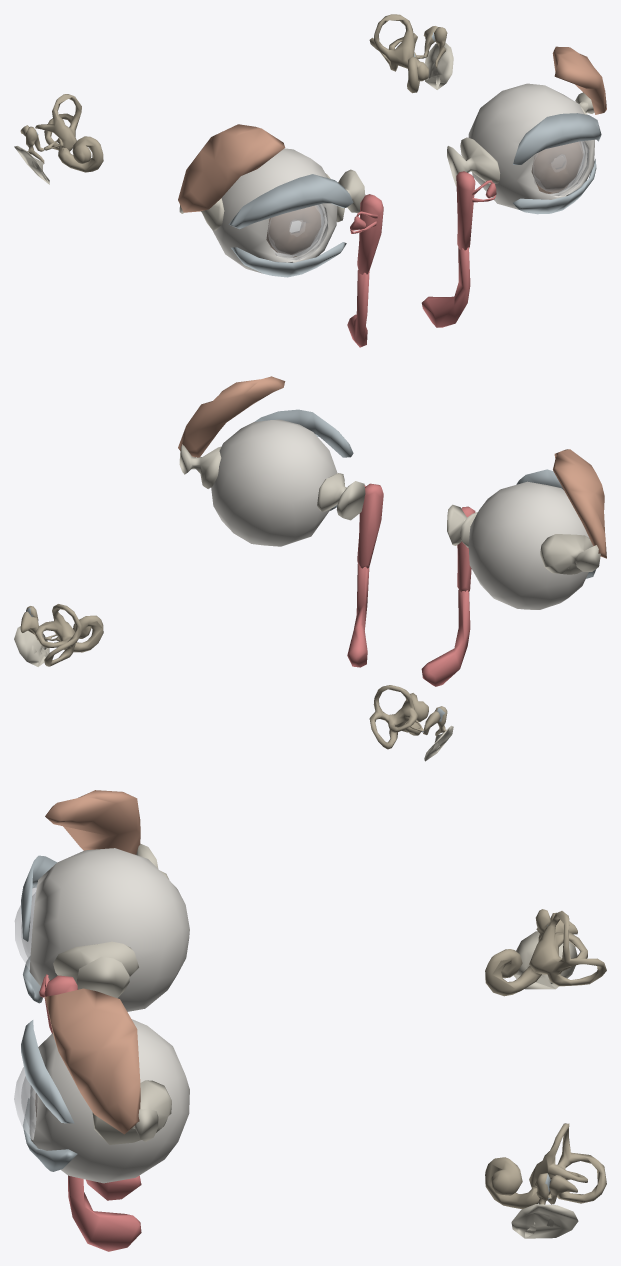
The model's file is adult_male.sensory.LOD3.glb.
3 renders of one model, top to bottom at view 1: azimuth 30°, elevation 25°; view 2: azimuth 150°, elevation 25°; view 3: azimuth 270°, elevation 25°, orthographic. The views are drawn at different scales.
Parts seen in each view (by area): view 1: ADULT.MALE.SENSORY.SCLERA.L, ADULT.MALE.SENSORY.SCLERA.R, ADULT.MALE.SENSORY.LACRIMAL_GLAND.R, ADULT.MALE.SENSORY.SUPERIOR_TARSUS.R, ADULT.MALE.SENSORY.CORNEA.R, ADULT.MALE.SENSORY.SUPERIOR_TARSUS.L, ADULT.MALE.SENSORY.CORNEA.L, ADULT.MALE.SENSORY.ANTERIOR_CHAMBER_OF_EYEBALL.R, ADULT.MALE.SENSORY.LACRIMAL_GLAND.L, ADULT.MALE.SENSORY.IRIS.R, ADULT.MALE.SENSORY.SUSPENSORY_LIGAMENT_OF_EYEBALL.L, ADULT.MALE.SENSORY.ANTERIOR_CHAMBER_OF_EYEBALL.L (+13 smaller); view 2: ADULT.MALE.SENSORY.SCLERA.L, ADULT.MALE.SENSORY.SCLERA.R, ADULT.MALE.SENSORY.LACRIMAL_GLAND.L, ADULT.MALE.SENSORY.LACRIMAL_GLAND.R, ADULT.MALE.SENSORY.SUSPENSORY_LIGAMENT_OF_EYEBALL.R, ADULT.MALE.SENSORY.SUSPENSORY_LIGAMENT_OF_EYEBALL.L, ADULT.MALE.SENSORY.NASOLACRIMAL_DUCT.R, ADULT.MALE.SENSORY.LACRIMAL_SAC.L, ADULT.MALE.SENSORY.VESTIBULE.L, ADULT.MALE.SENSORY.SUPERIOR_TARSUS.L, ADULT.MALE.SENSORY.VESTIBULE.R, ADULT.MALE.SENSORY.NASOLACRIMAL_DUCT.L (+3 smaller); view 3: ADULT.MALE.SENSORY.SCLERA.R, ADULT.MALE.SENSORY.SCLERA.L, ADULT.MALE.SENSORY.LACRIMAL_GLAND.L, ADULT.MALE.SENSORY.LACRIMAL_GLAND.R, ADULT.MALE.SENSORY.SUSPENSORY_LIGAMENT_OF_EYEBALL.R, ADULT.MALE.SENSORY.NASOLACRIMAL_DUCT.L, ADULT.MALE.SENSORY.VESTIBULE.R, ADULT.MALE.SENSORY.SUSPENSORY_LIGAMENT_OF_EYEBALL.L, ADULT.MALE.SENSORY.VESTIBULE.L, ADULT.MALE.SENSORY.SUPERIOR_TARSUS.L, ADULT.MALE.SENSORY.TYMPANIC_MEMBRANE.L, ADULT.MALE.SENSORY.COCHLEA.L (+7 smaller).
Boxes of the visible parts, x1,y1,x2,y2 form: ADULT.MALE.SENSORY.SCLERA.L: (468, 83, 594, 209); ADULT.MALE.SENSORY.SCLERA.R: (212, 148, 337, 273); ADULT.MALE.SENSORY.LACRIMAL_GLAND.R: (178, 124, 285, 212); ADULT.MALE.SENSORY.SUPERIOR_TARSUS.R: (229, 174, 353, 229); ADULT.MALE.SENSORY.CORNEA.R: (266, 204, 328, 259); ADULT.MALE.SENSORY.SUPERIOR_TARSUS.L: (513, 113, 601, 164); ADULT.MALE.SENSORY.CORNEA.L: (532, 141, 588, 195); ADULT.MALE.SENSORY.ANTERIOR_CHAMBER_OF_EYEBALL.R: (268, 205, 323, 255); ADULT.MALE.SENSORY.LACRIMAL_GLAND.L: (552, 46, 606, 114); ADULT.MALE.SENSORY.IRIS.R: (266, 205, 320, 254); ADULT.MALE.SENSORY.SUSPENSORY_LIGAMENT_OF_EYEBALL.L: (447, 92, 594, 186); ADULT.MALE.SENSORY.ANTERIOR_CHAMBER_OF_EYEBALL.L: (533, 141, 584, 192); ADULT.MALE.SENSORY.SCLERA.L: (211, 419, 337, 546); ADULT.MALE.SENSORY.SCLERA.R: (468, 481, 592, 609); ADULT.MALE.SENSORY.LACRIMAL_GLAND.L: (178, 376, 285, 457); ADULT.MALE.SENSORY.LACRIMAL_GLAND.R: (553, 449, 606, 558); ADULT.MALE.SENSORY.SUSPENSORY_LIGAMENT_OF_EYEBALL.R: (447, 504, 600, 574); ADULT.MALE.SENSORY.SUSPENSORY_LIGAMENT_OF_EYEBALL.L: (179, 444, 365, 520); ADULT.MALE.SENSORY.NASOLACRIMAL_DUCT.R: (421, 590, 470, 686); ADULT.MALE.SENSORY.LACRIMAL_SAC.L: (357, 483, 383, 568); ADULT.MALE.SENSORY.VESTIBULE.L: (35, 604, 81, 666); ADULT.MALE.SENSORY.SUPERIOR_TARSUS.L: (254, 409, 353, 457); ADULT.MALE.SENSORY.VESTIBULE.R: (369, 685, 417, 749); ADULT.MALE.SENSORY.NASOLACRIMAL_DUCT.L: (347, 564, 369, 667); ADULT.MALE.SENSORY.SCLERA.R: (29, 848, 189, 1011); ADULT.MALE.SENSORY.SCLERA.L: (29, 1019, 189, 1183); ADULT.MALE.SENSORY.LACRIMAL_GLAND.L: (45, 988, 140, 1134); ADULT.MALE.SENSORY.LACRIMAL_GLAND.R: (45, 790, 140, 854); ADULT.MALE.SENSORY.SUSPENSORY_LIGAMENT_OF_EYEBALL.R: (53, 843, 169, 998); ADULT.MALE.SENSORY.NASOLACRIMAL_DUCT.L: (68, 1175, 141, 1251); ADULT.MALE.SENSORY.VESTIBULE.R: (529, 911, 606, 986); ADULT.MALE.SENSORY.SUSPENSORY_LIGAMENT_OF_EYEBALL.L: (92, 1080, 171, 1144); ADULT.MALE.SENSORY.VESTIBULE.L: (529, 1123, 606, 1203); ADULT.MALE.SENSORY.SUPERIOR_TARSUS.L: (21, 1020, 74, 1123); ADULT.MALE.SENSORY.TYMPANIC_MEMBRANE.L: (511, 1204, 578, 1238); ADULT.MALE.SENSORY.COCHLEA.L: (485, 1157, 539, 1209).
Size of the model in its own units: 0.1012 by 0.0572 by 0.0924.
